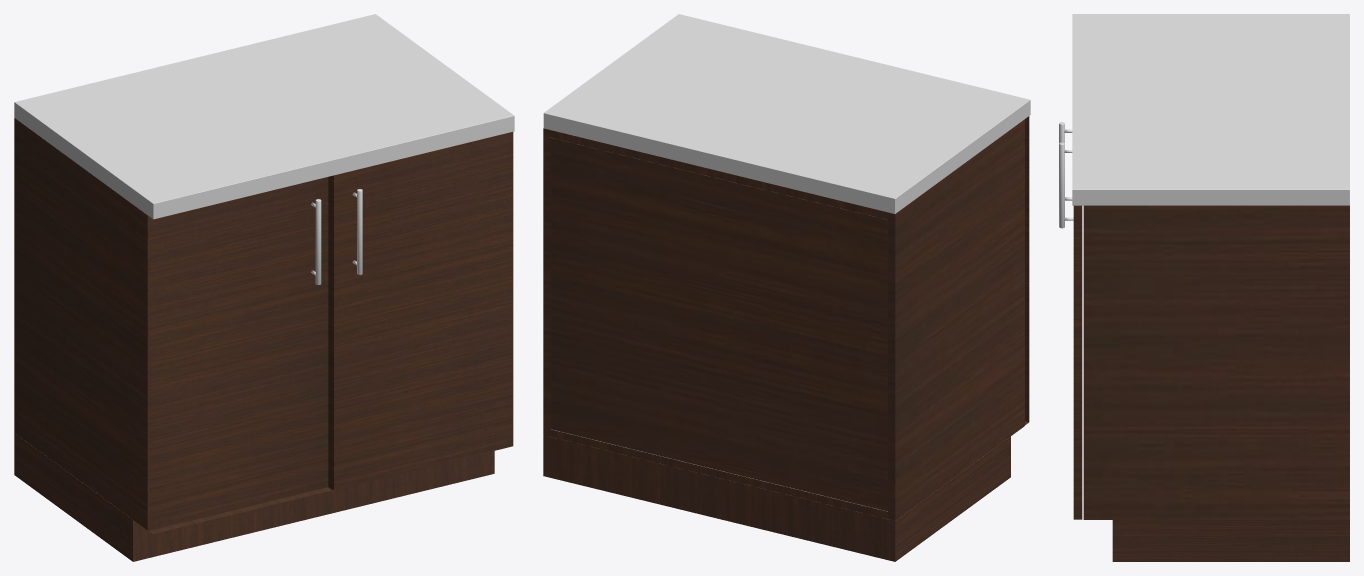
File: cabinet3.fbx
3 views of the same model, side by side, from view 1: azimuth 30°, elevation 25°; view 2: azimuth 150°, elevation 25°; view 3: azimuth 270°, elevation 25° (orthographic). The views are drawn at different scales.
Visible parts, largest first — view 1: Part.008, Part.016, Part.010, Carcass.003, Base Assembly, Pull 8in (203mm) Bar.004; view 2: Carcass.003, Part.016, Base Assembly, Part.008; view 3: Carcass.003, Part.016, Base Assembly, Part.010, Pull 8in (203mm) Bar.005.
Part boxes in pixels (x1,y1,x2,y2): Part.008: (149,176,332,533); Part.016: (14,14,514,219); Part.010: (332,132,513,489); Carcass.003: (14,118,148,530); Base Assembly: (14,433,494,561); Pull 8in (203mm) Bar.004: (311,199,321,285); Carcass.003: (543,119,1024,520); Part.016: (543,14,1030,213); Base Assembly: (543,435,1010,561); Part.008: (1025,116,1029,424); Carcass.003: (1083,205,1349,519); Part.016: (1072,14,1349,205); Base Assembly: (1112,520,1349,561); Part.010: (1073,205,1082,519); Pull 8in (203mm) Bar.005: (1059,142,1073,228).
Bounding box in the file's own units: 91.44 × 90.17 × 63.83.
Materials: 5 (2 with a texture image).
